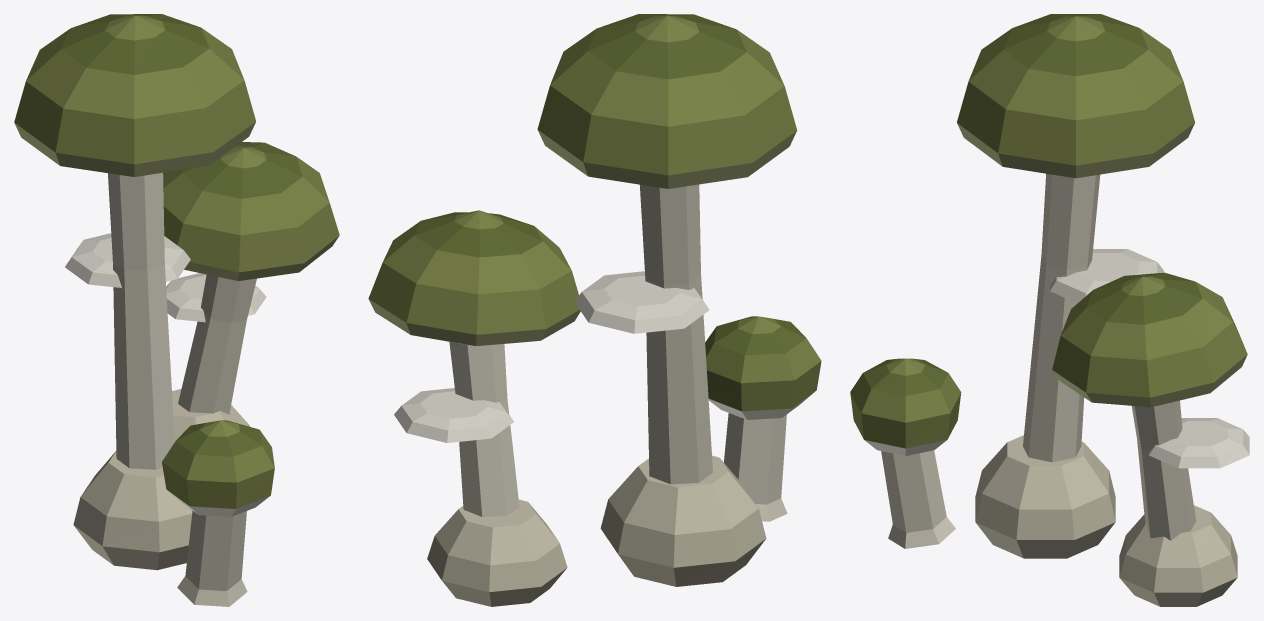
The model's file is deathcap.gltf.
3 views of the same model, side by side, from view 1: azimuth 30°, elevation 25°; view 2: azimuth 150°, elevation 25°; view 3: azimuth 270°, elevation 25° (orthographic). The views are drawn at different scales.
Visible parts, largest first — view 1: deathcap; view 2: deathcap; view 3: deathcap.
Boxes of the visible parts, <box> form: deathcap: <box>14,14,339,606</box>; deathcap: <box>368,14,821,606</box>; deathcap: <box>850,14,1249,606</box>.
Bounding box in the file's own units: 0.2411 × 0.3657 × 0.2525.
